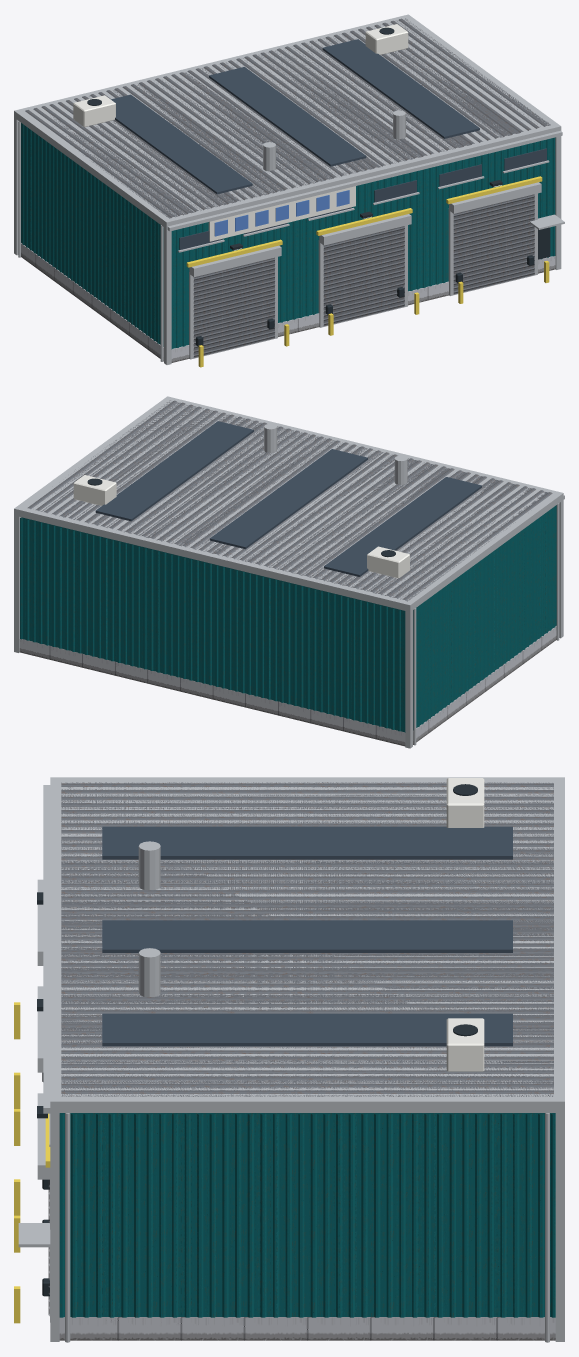
File: warehouse.glb
3 renders of one model, top to bottom at view 1: azimuth 30°, elevation 25°; view 2: azimuth 150°, elevation 25°; view 3: azimuth 270°, elevation 25°, orthographic. The views are drawn at different scales.
Parts seen in each view (by area): view 1: harbor_warehouse; view 2: harbor_warehouse; view 3: harbor_warehouse.
Boxes of the visible parts, x1=… form: harbor_warehouse: x1=14, y1=14, x2=564, y2=367; harbor_warehouse: x1=14, y1=396, x2=564, y2=748; harbor_warehouse: x1=14, y1=777, x2=564, y2=1342.
Size of the model in its own units: 24.4 by 9.8 by 17.45.
Materials: 11 (4 with a texture image).
